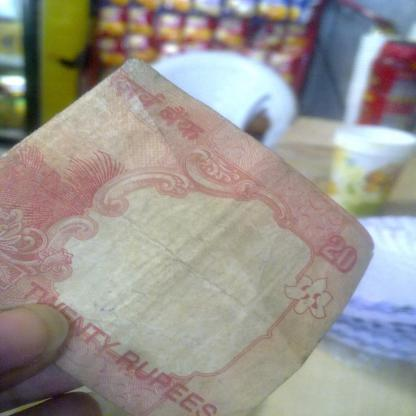Old20Back: (0, 62, 369, 415)
